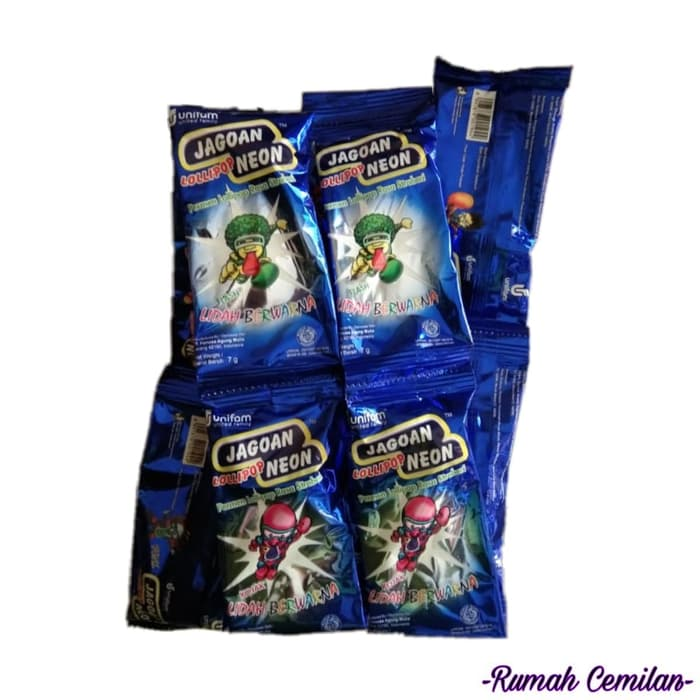jagoan_neon: (303, 90, 479, 390), (169, 104, 344, 395), (341, 366, 506, 636), (202, 383, 365, 631)
